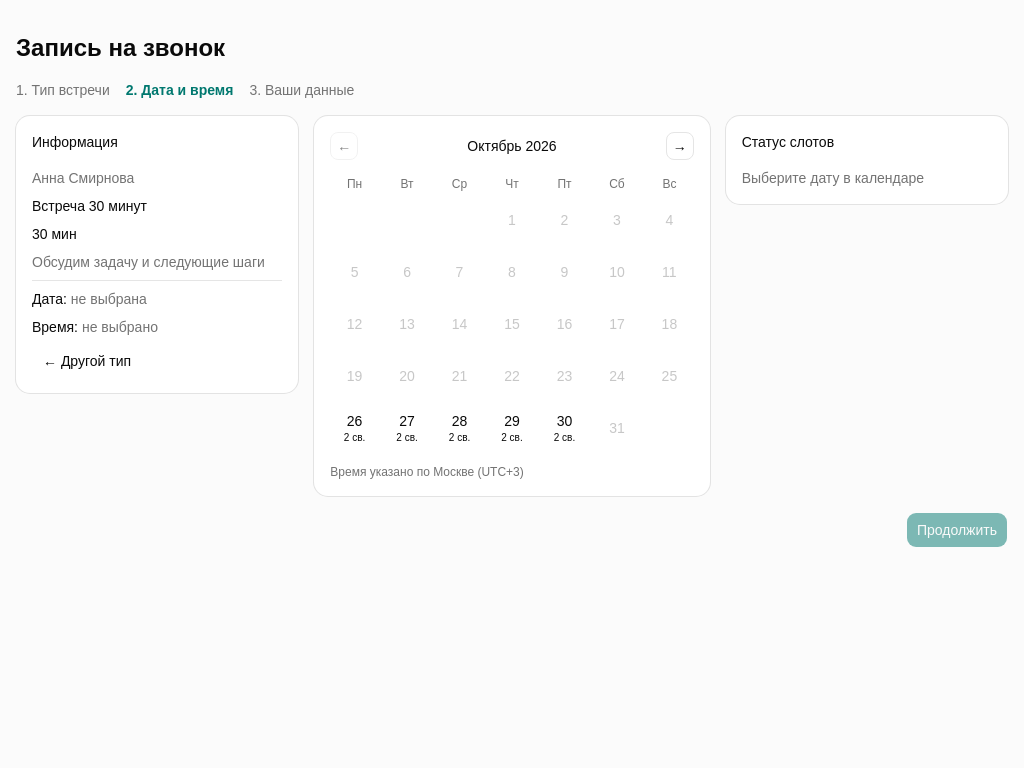
Test case: подтверждение и создание Booking › «Изменить» открывает календарь на месяце выбранного дня за пределами первого месяца
Click the button named "Следующий месяц" at (680, 146), box [666,132,694,160]
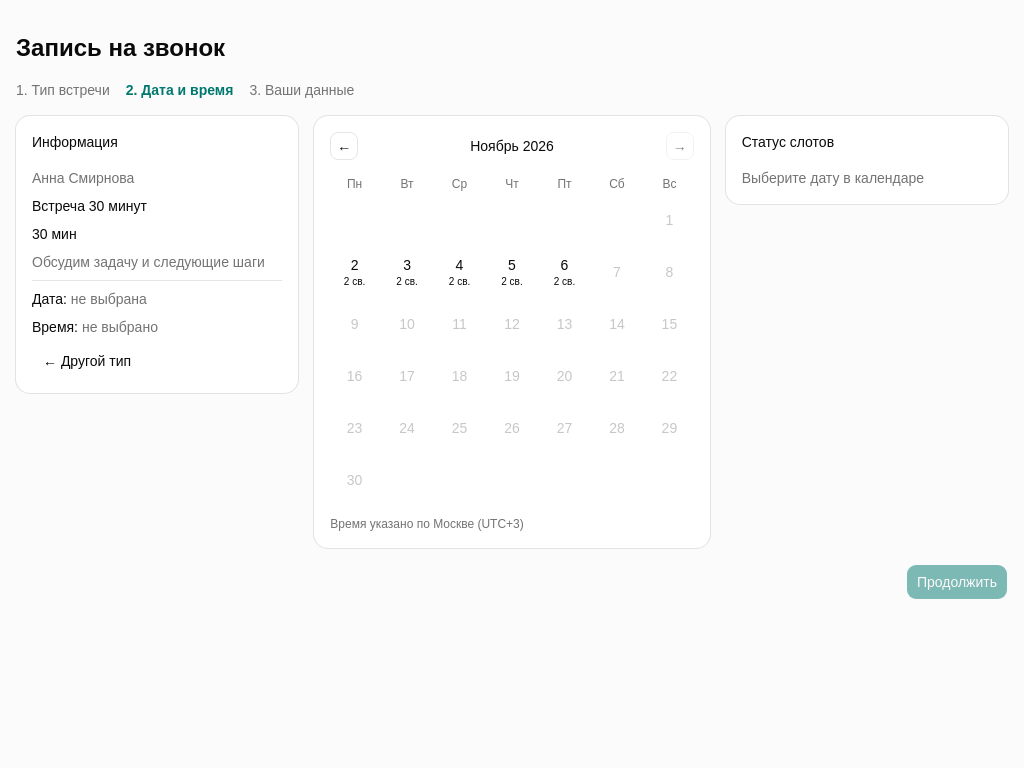
Click the button "2 2 св." at (355, 272), box [330,248,379,296]
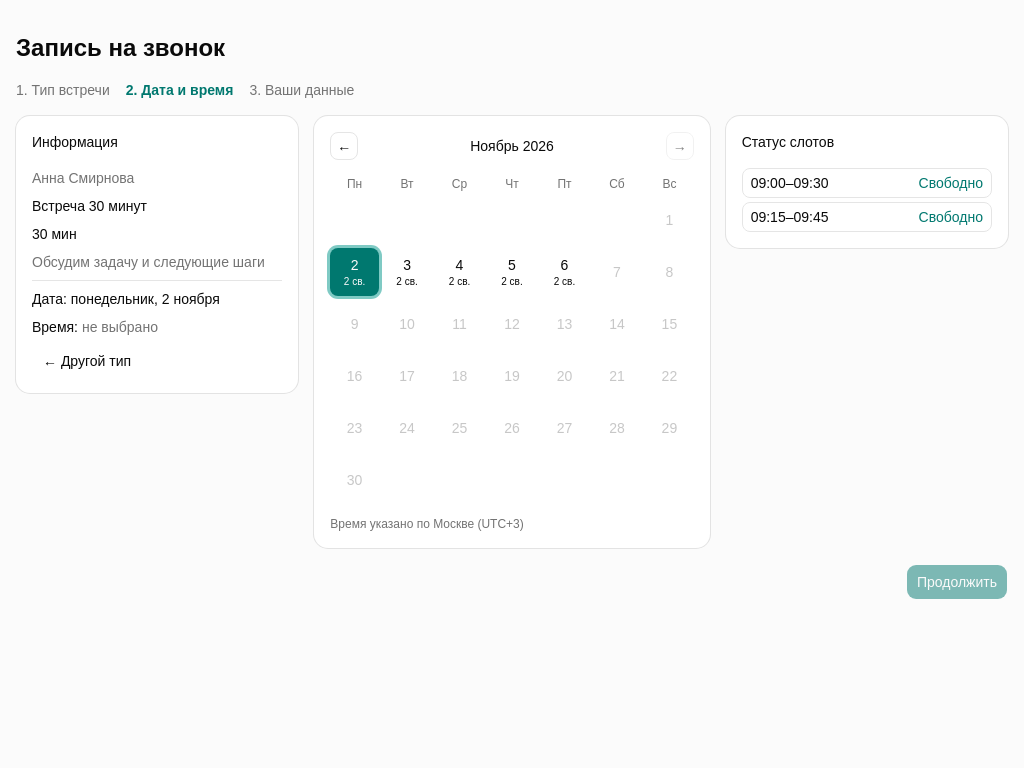
Click the button "09:00–09:30 Свободно" at (867, 183), box [742,168,992,198]
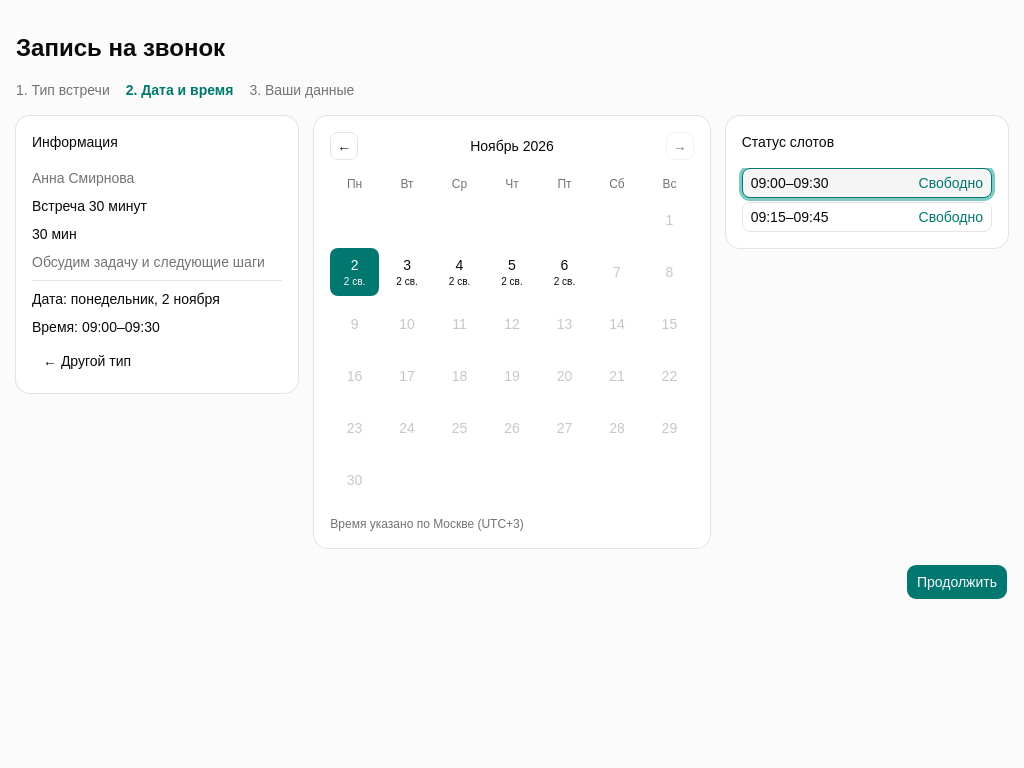
Click the button "Продолжить" at (957, 582), box [906,564,1008,600]
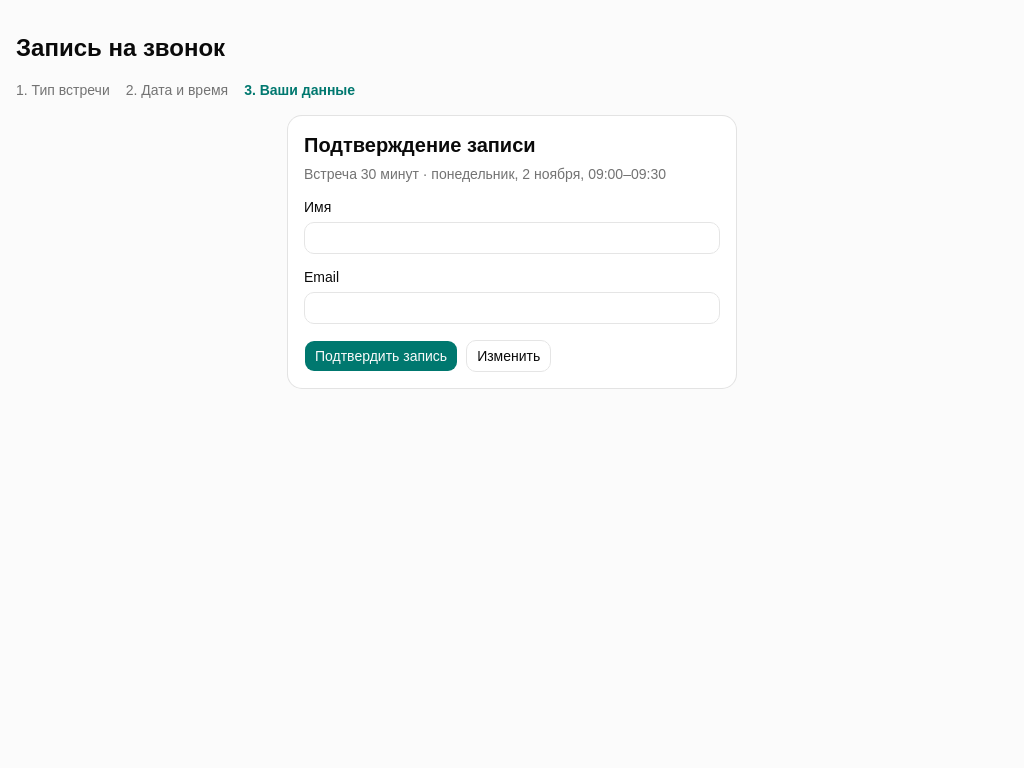
Expected: the heading "Подтверждение записи" is shown, [304,134,536,156]
Click the button "Изменить" at (509, 356), box [466,340,551,372]
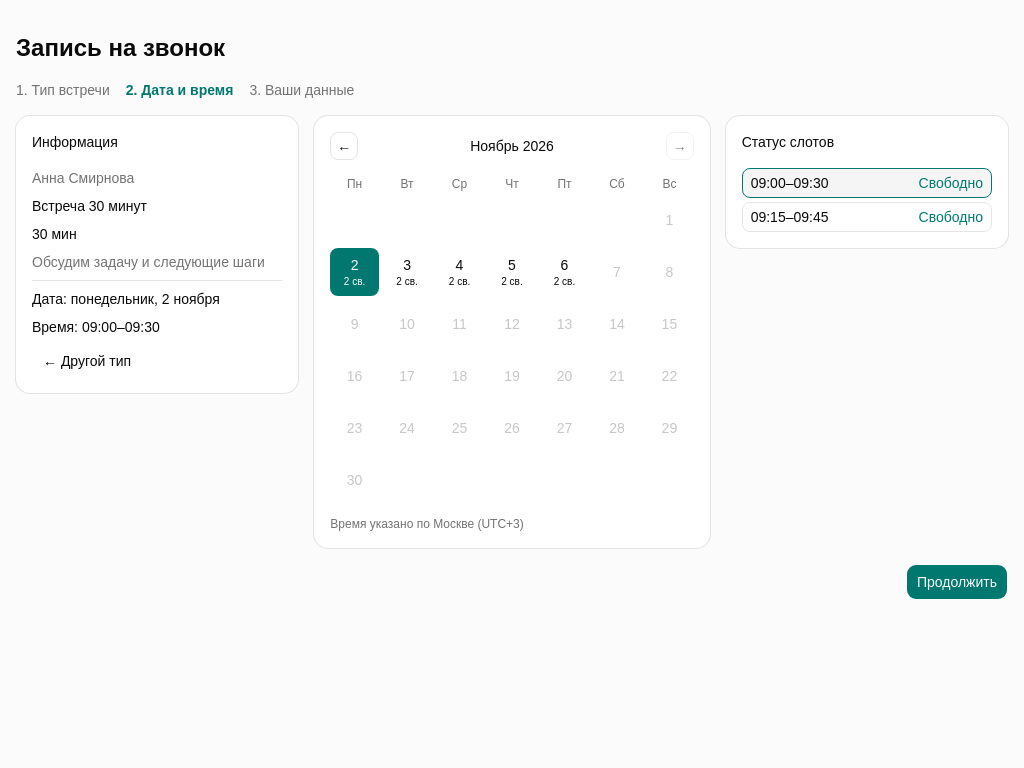
Expected: the heading "Ноябрь 2026" is shown, [470,138,554,154]
